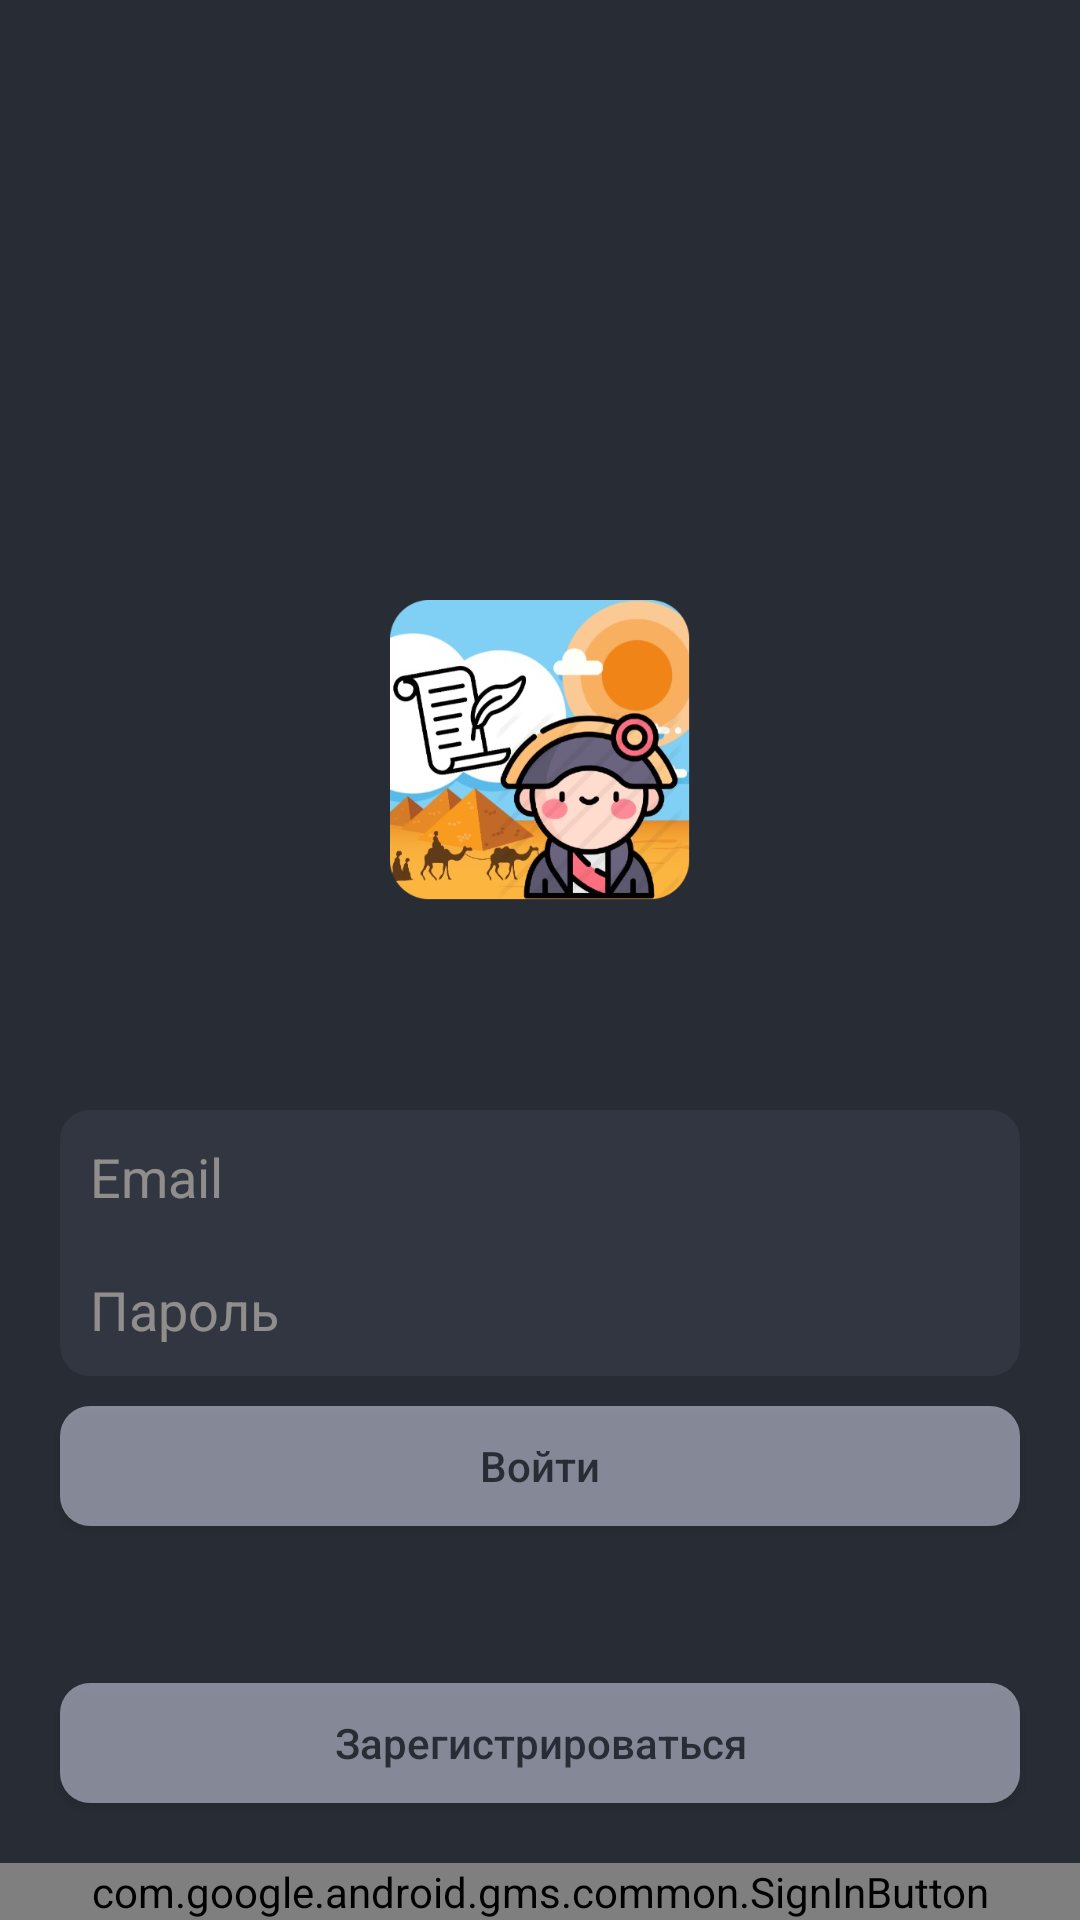

Icon click points for this 1080px x 1920px phone screenshot, format [x,y]:
Иконка приложения: [540,750]
